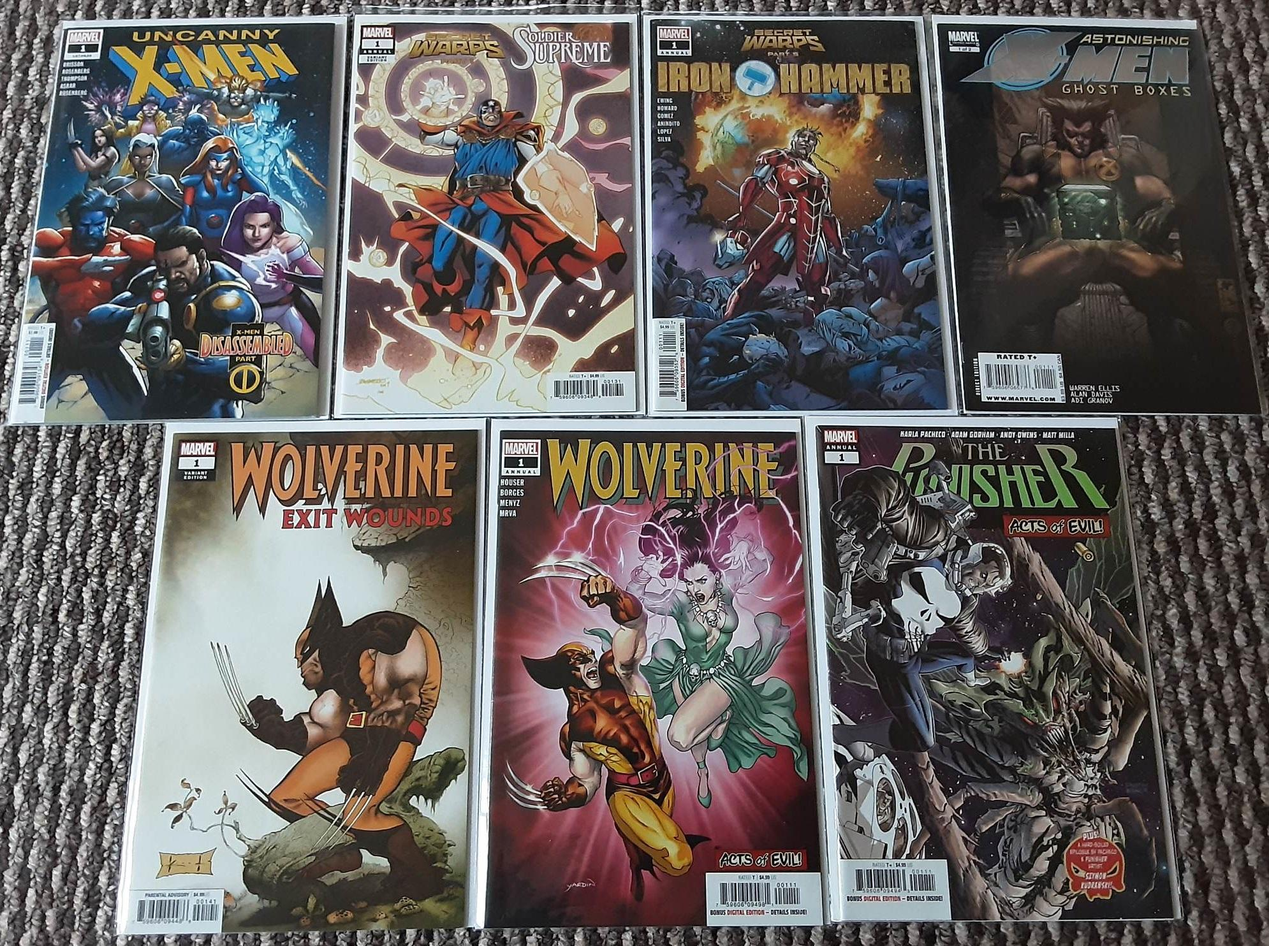comic: (802, 401, 1178, 936), (118, 413, 485, 941), (472, 418, 821, 927), (932, 0, 1262, 431), (9, 11, 345, 428), (333, 13, 639, 416), (643, 12, 949, 413)
